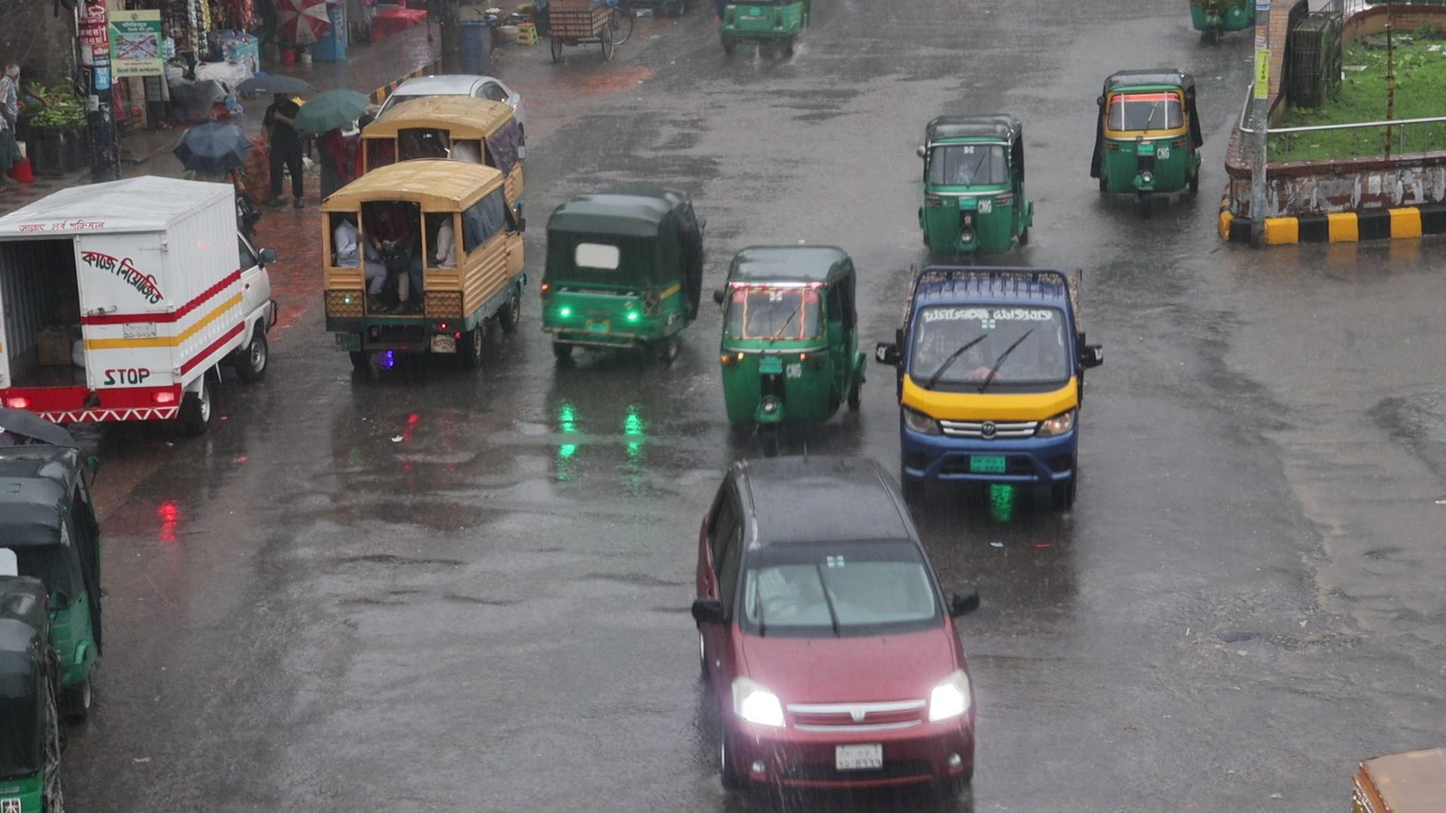Car: (693, 451, 976, 795)
Truck: (892, 261, 1088, 508), (317, 157, 526, 364)
